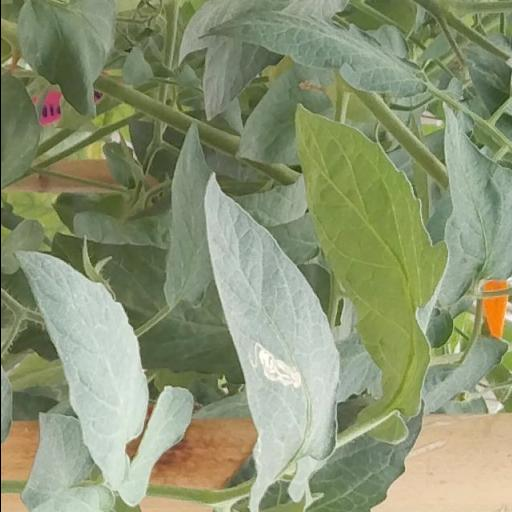disease_tomato: (202, 174, 342, 512)
